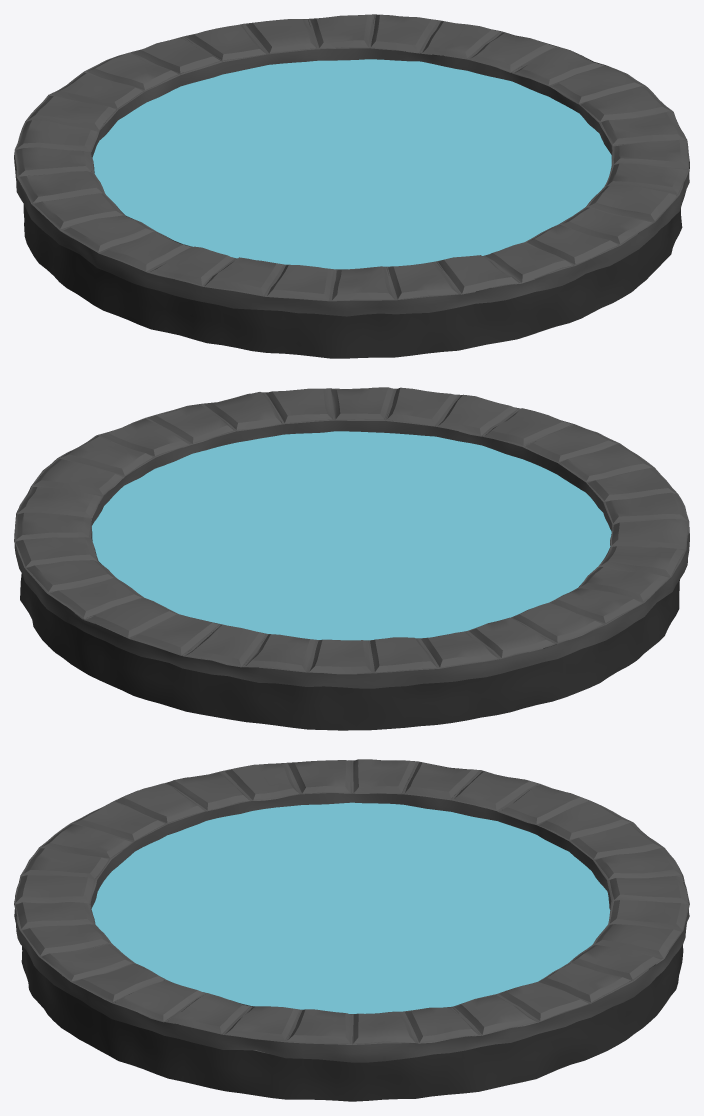
Rendered from koi_pond.glb.
3 renders of one model, top to bottom at view 1: azimuth 30°, elevation 25°; view 2: azimuth 150°, elevation 25°; view 3: azimuth 270°, elevation 25°, orthographic.
Visible parts, largest first — view 1: Koi_base, Koi_water; view 2: Koi_base, Koi_water; view 3: Koi_base, Koi_water.
Boxes of the visible parts, x1,y1,x2,y2 form: Koi_base: [14, 14, 689, 358]; Koi_water: [92, 59, 611, 269]; Koi_base: [14, 387, 689, 730]; Koi_water: [92, 431, 611, 640]; Koi_base: [14, 759, 689, 1101]; Koi_water: [91, 802, 610, 1013].
Size of what is drawn, in the model's own units: 5.16 by 0.5832 by 5.13.
